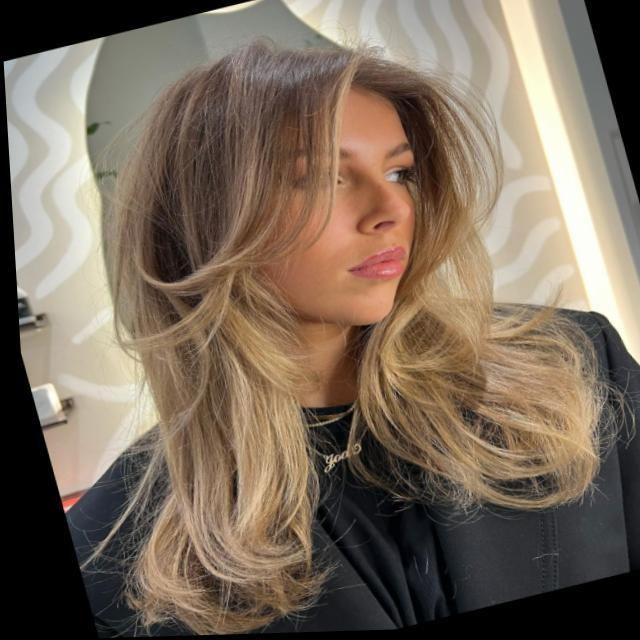Nonhelmet: (128, 19, 480, 382)
